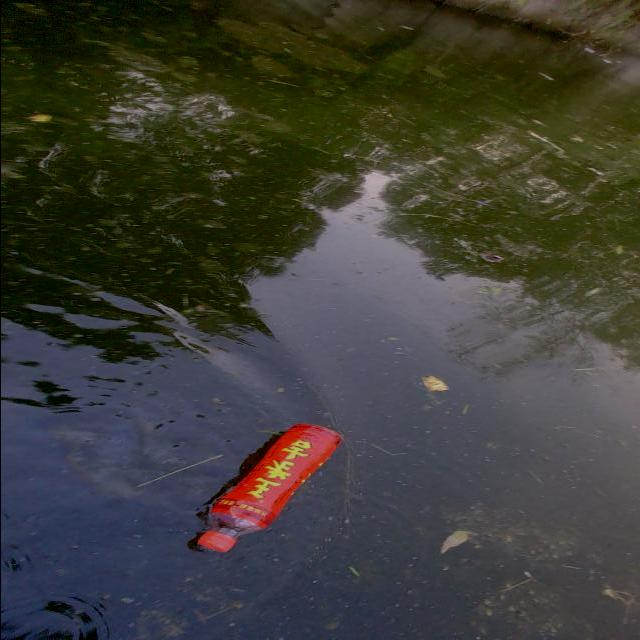bottle: (181, 403, 372, 562)
